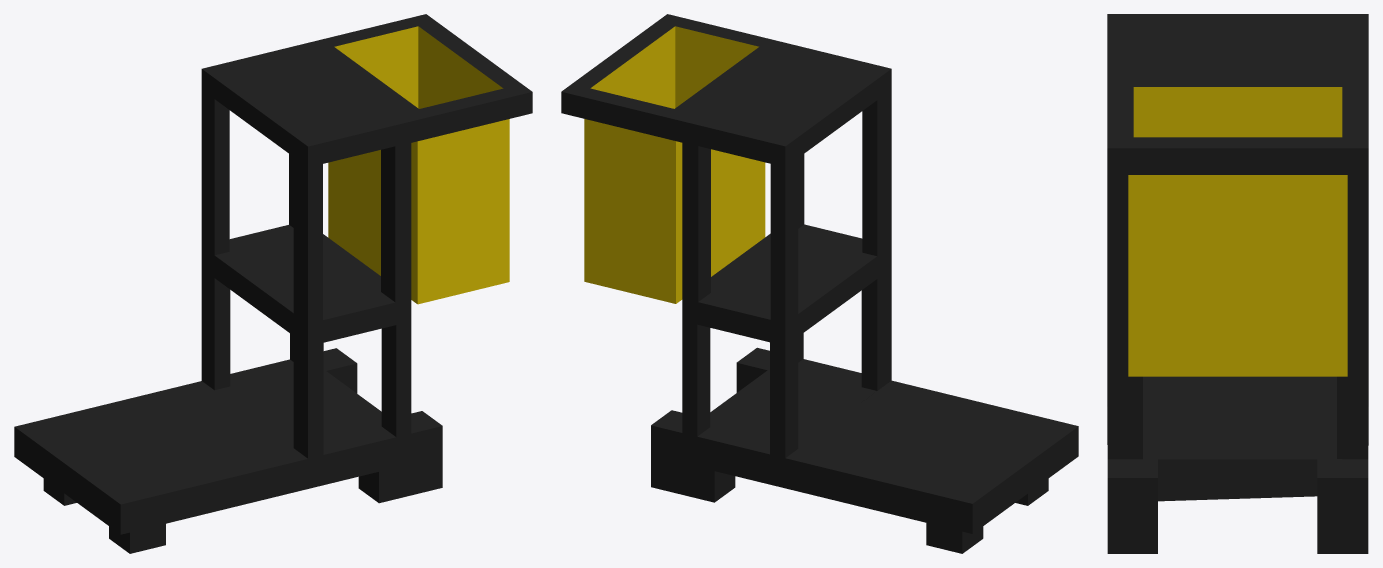
Rendered from Cleaning cart (Hiding spot).fbx.
3 renders of one model, left to right at view 1: azimuth 30°, elevation 25°; view 2: azimuth 150°, elevation 25°; view 3: azimuth 270°, elevation 25°, orthographic. The views are drawn at different scales.
Parts seen in each view (by area): view 1: Cleaning cart; view 2: Cleaning cart; view 3: Cleaning cart.
Boxes of the visible parts, x1,y1,x2,y2 form: Cleaning cart: (14, 14, 532, 553); Cleaning cart: (561, 14, 1078, 553); Cleaning cart: (1107, 14, 1368, 553).
Bounding box in the file's own units: 1.14 × 0.9902 × 0.51.
